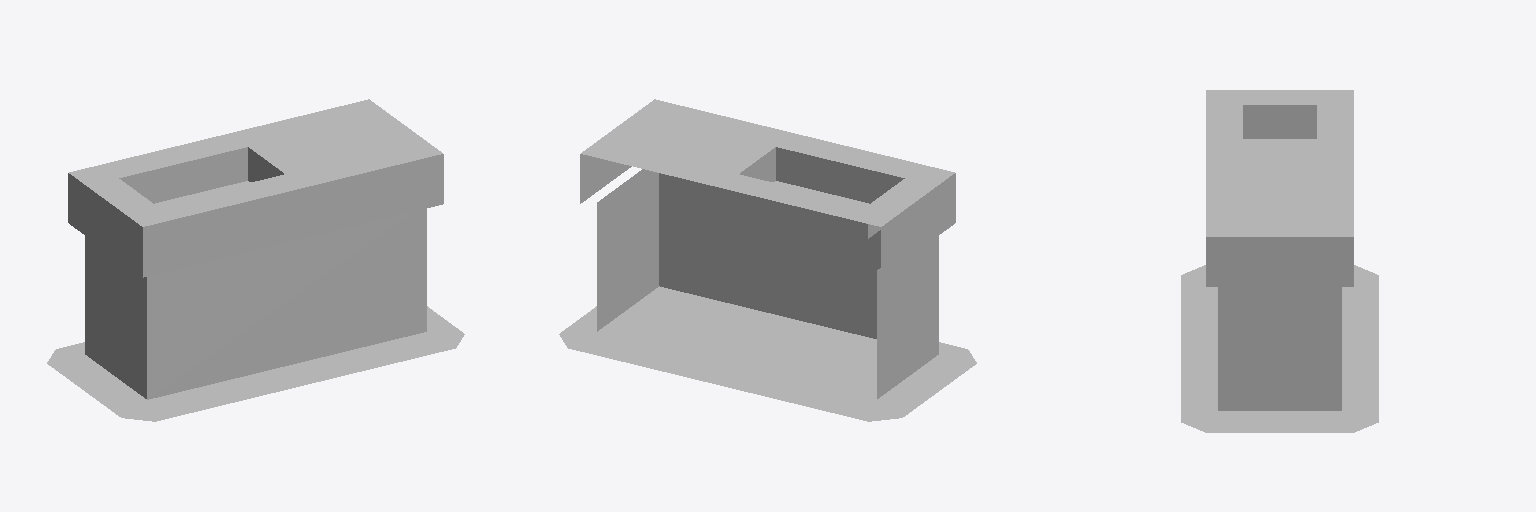
File: Kitchen Sink.obj
The picture shows the model from 3 angles: view 1: azimuth 30°, elevation 25°; view 2: azimuth 150°, elevation 25°; view 3: azimuth 270°, elevation 25°; orthographic projection.
Visible parts, largest first — view 1: polygon1, polygon0; view 2: polygon1, polygon0; view 3: polygon1, polygon0.
Part boxes in pixels (x1,y1,x2,y2): polygon1: (68, 99, 443, 399); polygon0: (47, 306, 464, 421); polygon1: (580, 99, 955, 398); polygon0: (559, 286, 976, 421); polygon1: (1206, 90, 1353, 410); polygon0: (1181, 265, 1378, 432).
Bounding box in the file's own units: 32 × 16.5 × 16.